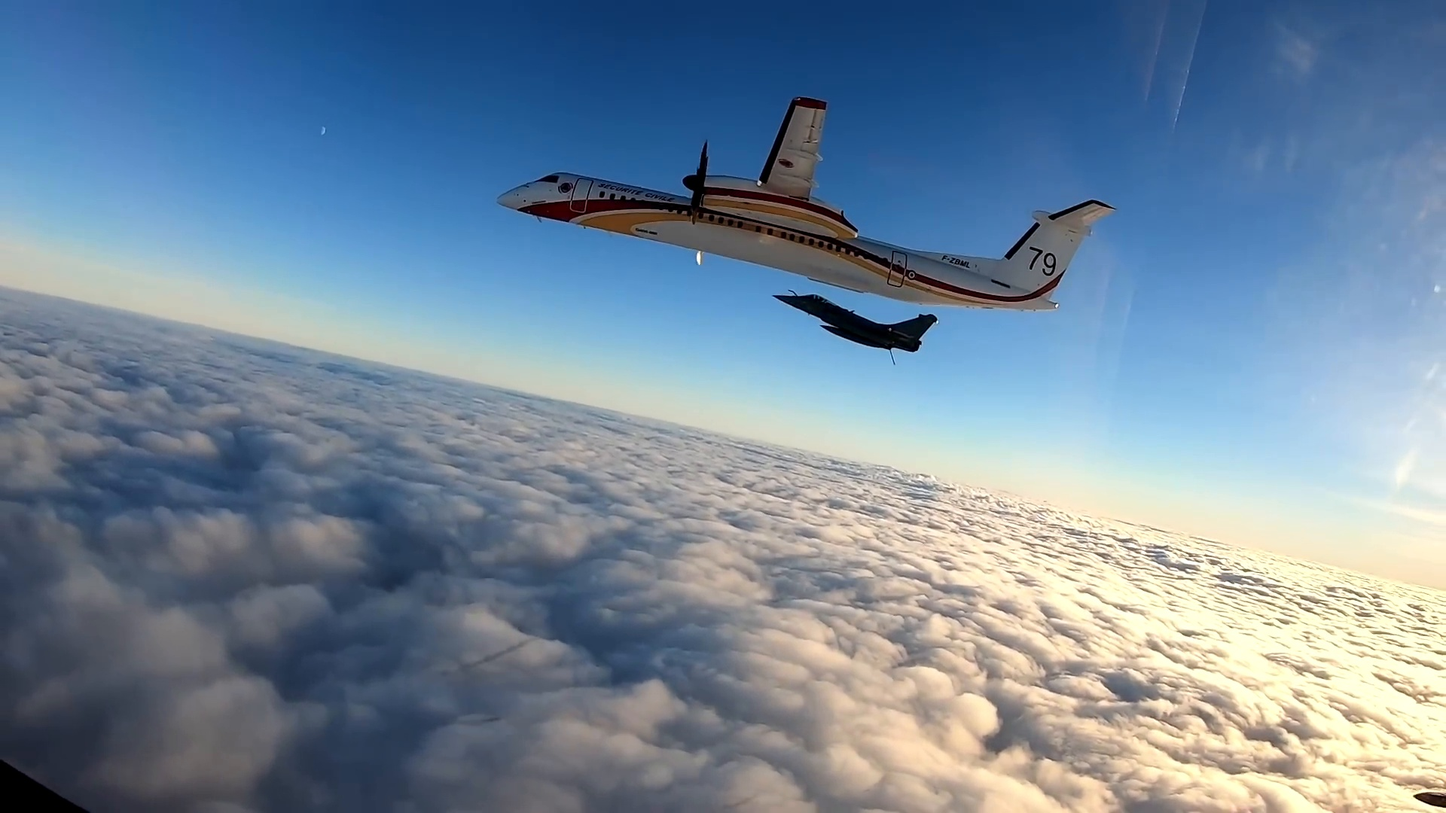Rafale: (771, 294, 939, 365)
